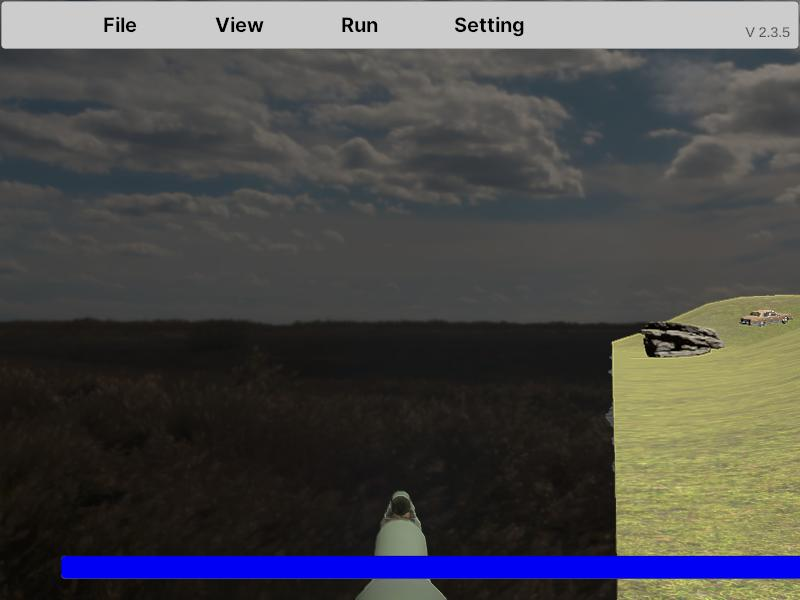car: (739, 309, 792, 327)
